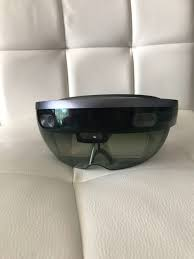hololens: (35, 95, 180, 172)
